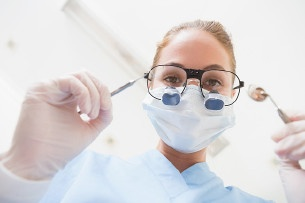Mask: (138, 56, 235, 154)
